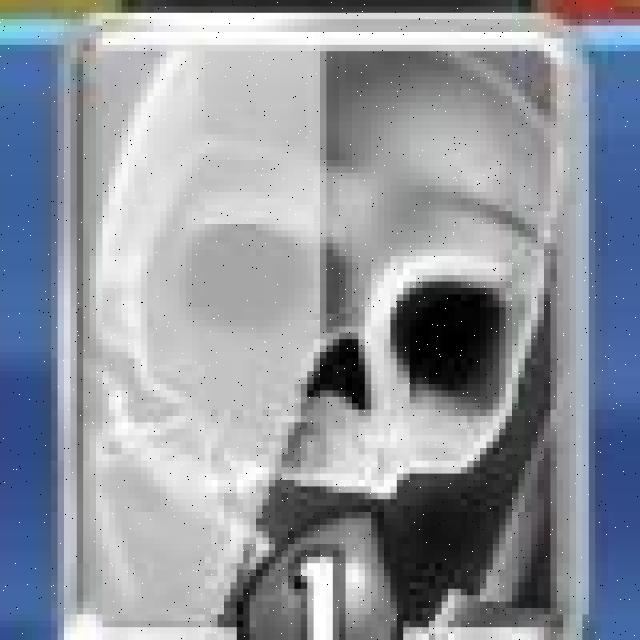Skeletons: (63, 14, 586, 639)
